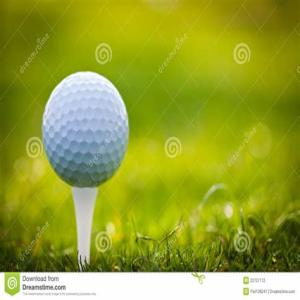Golf: (42, 71, 131, 190)
